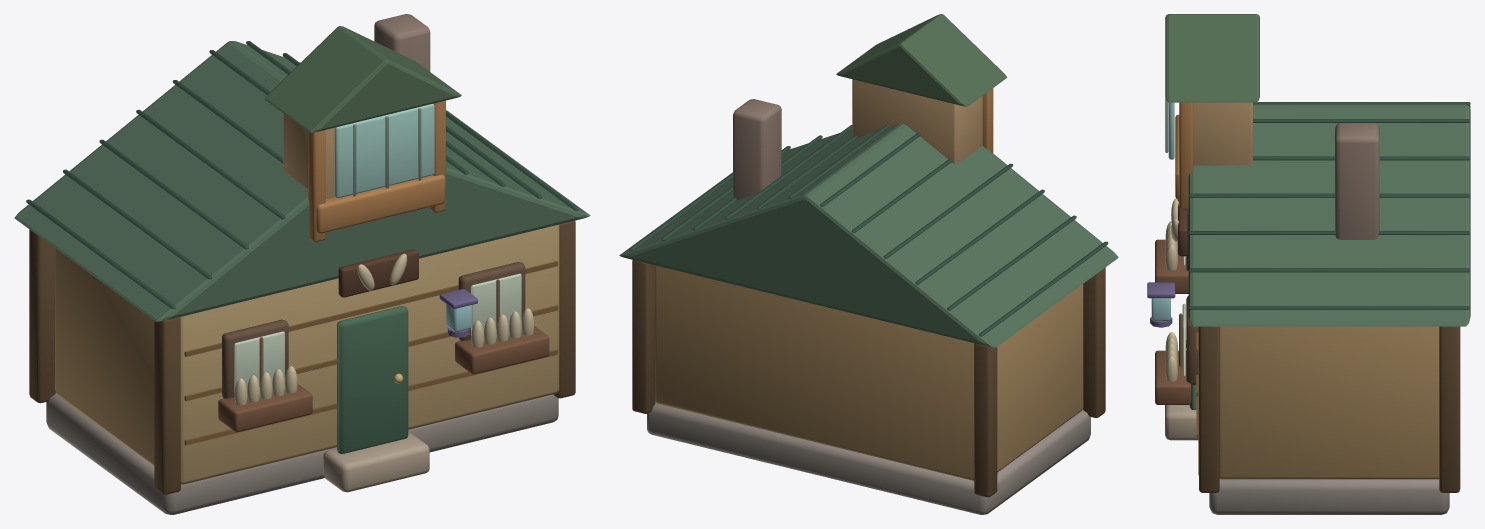
File: res_rook2.glb
3 views of the same model, side by side, from view 1: azimuth 30°, elevation 25°; view 2: azimuth 150°, elevation 25°; view 3: azimuth 270°, elevation 25° (orthographic). The views are drawn at different scales.
Visible parts, largest first — view 1: base, roof, crystal, walls, frame; view 2: base, roof, walls, frame; view 3: base, roof, walls, crystal, frame.
Part boxes in pixels (<box>): base: <box>14,14,590,514</box>; roof: <box>264,26,461,132</box>; crystal: <box>334,103,477,337</box>; walls: <box>283,113,445,233</box>; frame: <box>308,100,445,241</box>; base: <box>619,99,1118,514</box>; roof: <box>836,14,1007,106</box>; walls: <box>852,79,982,164</box>; frame: <box>982,88,993,152</box>; base: <box>1155,102,1470,514</box>; roof: <box>1165,14,1259,102</box>; walls: <box>1175,102,1252,199</box>; crystal: <box>1147,97,1175,327</box>; frame: <box>1179,102,1193,209</box>.
Size of the model in its own units: 3.47 by 3.26 by 2.32.
